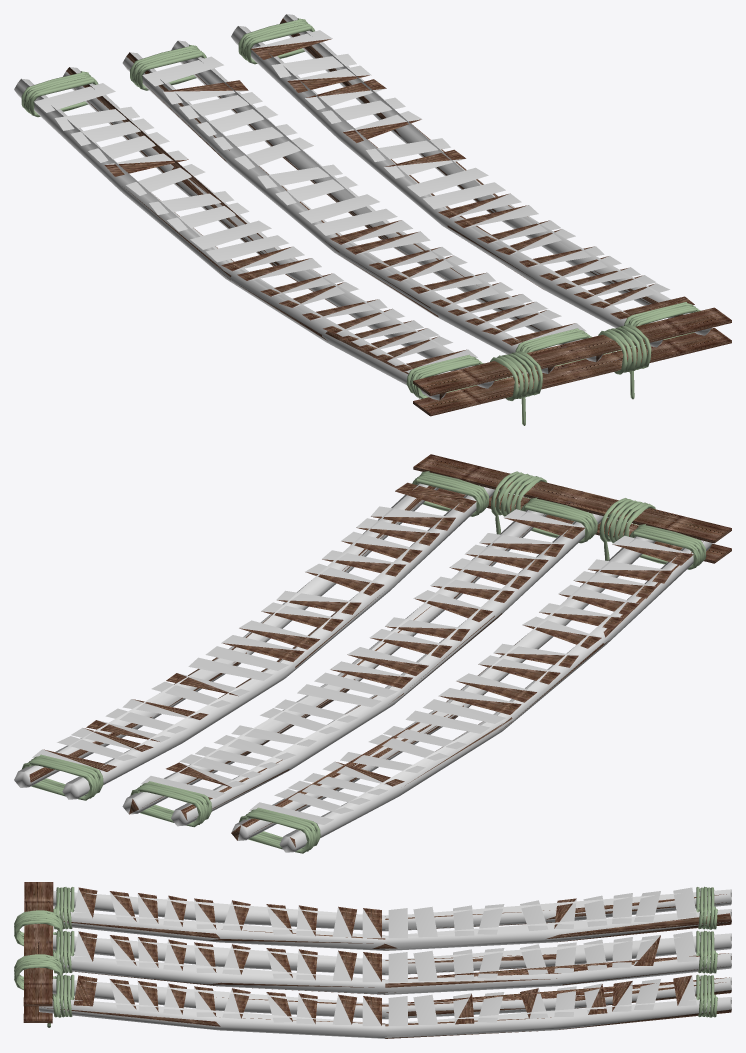
The model's file is 3_bridge_straight_nobase.fbx.
The picture shows the model from 3 angles, top to bottom: view 1: azimuth 30°, elevation 25°; view 2: azimuth 150°, elevation 25°; view 3: azimuth 270°, elevation 25°; orthographic projection. The views are drawn at different scales.
Parts seen in each view (by area): view 1: 3_straight_LaL, 3_straight_LaR, 3_straight_LaM, 3_straight_verschlag, 3_straight_ropevertical, 3_straight_LaL_ropes, 3_straight_LaM_ropes, 3_straight_LaR_ropes; view 2: 3_straight_LaL, 3_straight_LaR, 3_straight_LaM, 3_straight_verschlag, 3_straight_ropevertical, 3_straight_LaL_ropes, 3_straight_LaR_ropes, 3_straight_LaM_ropes; view 3: 3_straight_LaR, 3_straight_LaL, 3_straight_LaM, 3_straight_verschlag, 3_straight_ropevertical, 3_straight_LaR_ropes, 3_straight_LaM_ropes, 3_straight_LaL_ropes.
Part boxes in pixels (box(x1,y1,x2,y2)): 3_straight_LaL: box(14, 67, 494, 400); 3_straight_LaR: box(231, 14, 711, 347); 3_straight_LaM: box(122, 40, 602, 373); 3_straight_verschlag: box(413, 307, 731, 416); 3_straight_ropevertical: box(490, 324, 651, 425); 3_straight_LaL_ropes: box(21, 71, 483, 398); 3_straight_LaM_ropes: box(130, 44, 592, 371); 3_straight_LaR_ropes: box(238, 18, 700, 345); 3_straight_LaL: box(231, 535, 712, 852); 3_straight_LaR: box(14, 482, 494, 799); 3_straight_LaM: box(122, 509, 603, 826); 3_straight_verschlag: box(413, 454, 731, 563); 3_straight_ropevertical: box(491, 471, 655, 560); 3_straight_LaL_ropes: box(239, 524, 706, 853); 3_straight_LaR_ropes: box(21, 471, 488, 800); 3_straight_LaM_ropes: box(130, 497, 597, 827); 3_straight_LaR: box(39, 975, 731, 1038); 3_straight_LaL: box(53, 887, 731, 950); 3_straight_LaM: box(53, 931, 731, 994); 3_straight_verschlag: box(23, 882, 53, 1023); 3_straight_ropevertical: box(14, 910, 62, 1027); 3_straight_LaR_ropes: box(52, 974, 717, 1017); 3_straight_LaM_ropes: box(53, 930, 717, 973); 3_straight_LaL_ropes: box(53, 886, 717, 929).
Size of the model in its own units: 50.01 by 12.03 by 124.
Materials: 3 (1 with a texture image).
